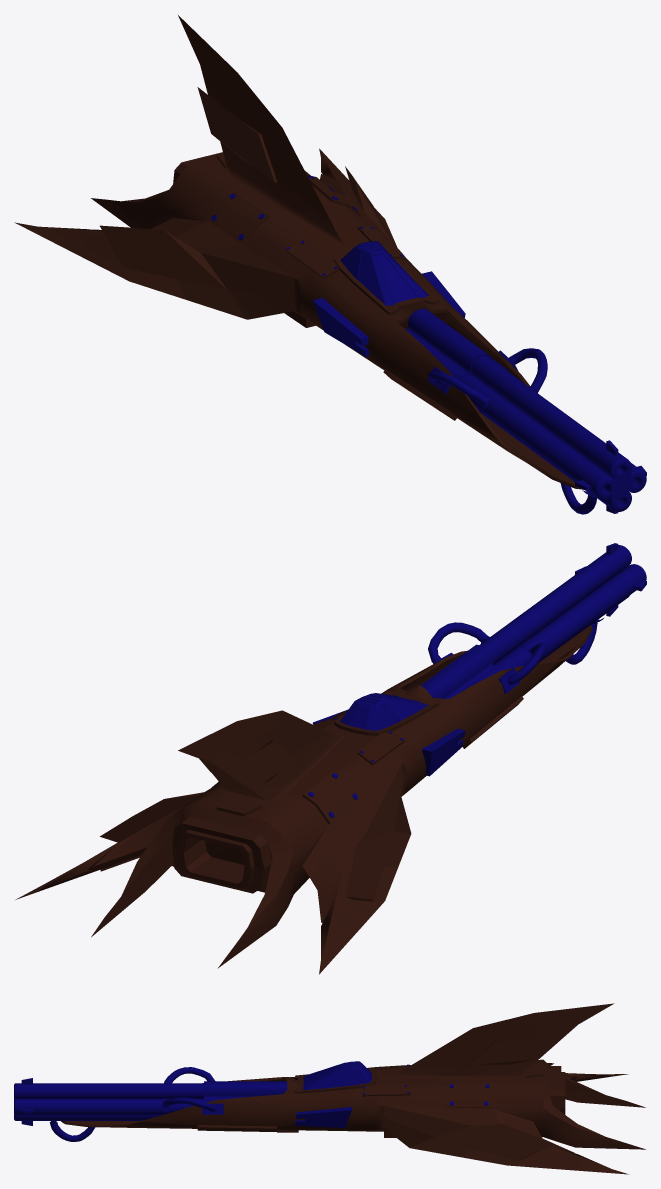
Rendered from Swift Blade II Mark II.obj.
3 views of the same model, one above another, from view 1: azimuth 30°, elevation 25°; view 2: azimuth 150°, elevation 25°; view 3: azimuth 270°, elevation 25° (orthographic). The views are drawn at different scales.
Visible parts, largest first — view 1: polySurface197 polySurface93, polySurface198; view 2: polySurface197 polySurface93, polySurface198; view 3: polySurface197 polySurface93, polySurface198.
Part boxes in pixels (x1,y1,x2,y2): polySurface197 polySurface93: (14,15,581,489); polySurface198: (211,175,646,514); polySurface197 polySurface93: (15,625,592,974); polySurface198: (211,543,646,817); polySurface197 polySurface93: (61,1003,645,1174); polySurface198: (14,1061,489,1141).
Bounding box in the file's own units: 4.7 × 3.02 × 12.5.
